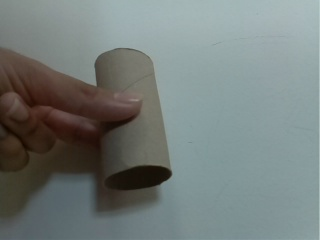rollo papel: (89, 47, 175, 192)
